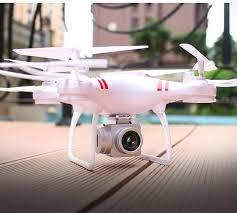drone: (0, 41, 237, 172)
